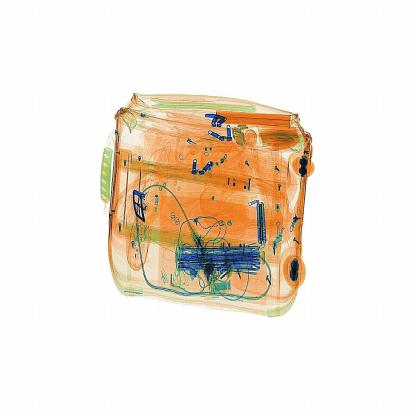scissors: (255, 201, 268, 247)
